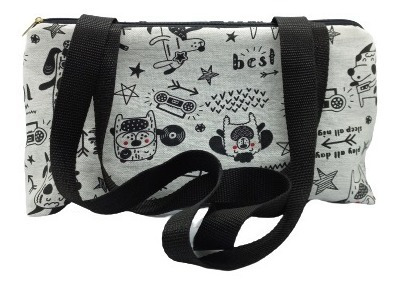cartera: (18, 13, 380, 219)
